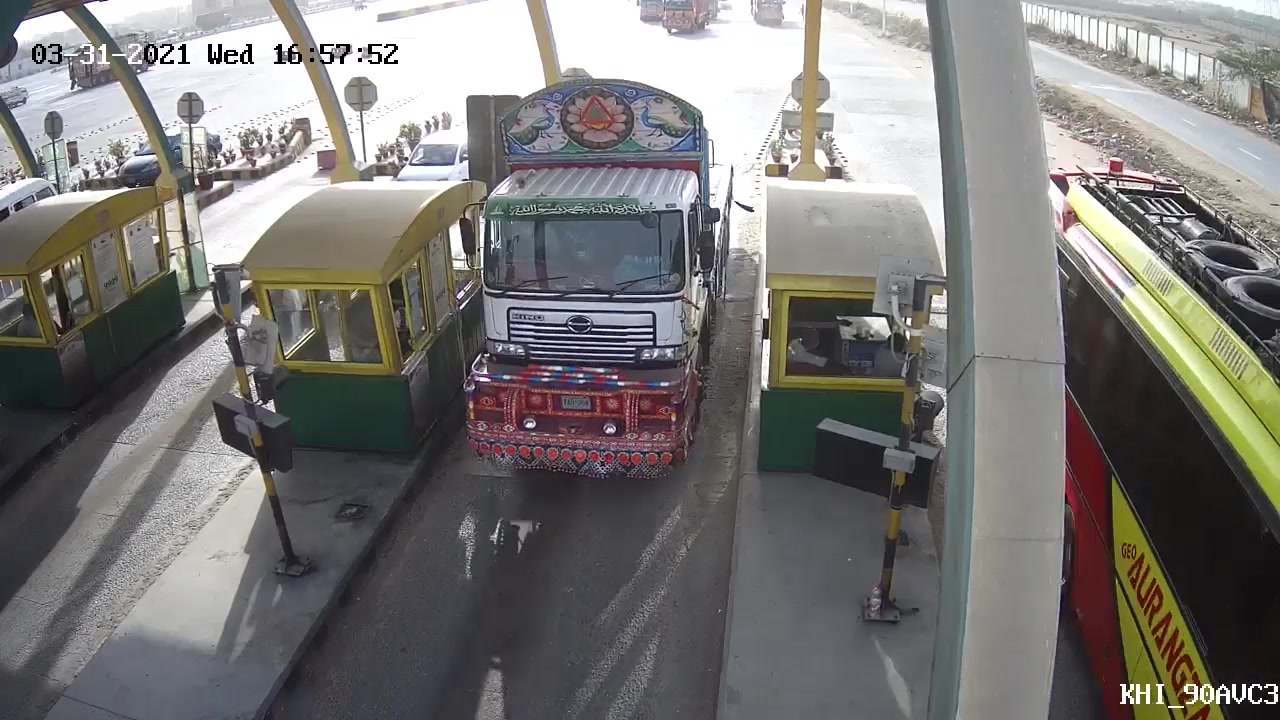F5: (459, 75, 738, 481)
